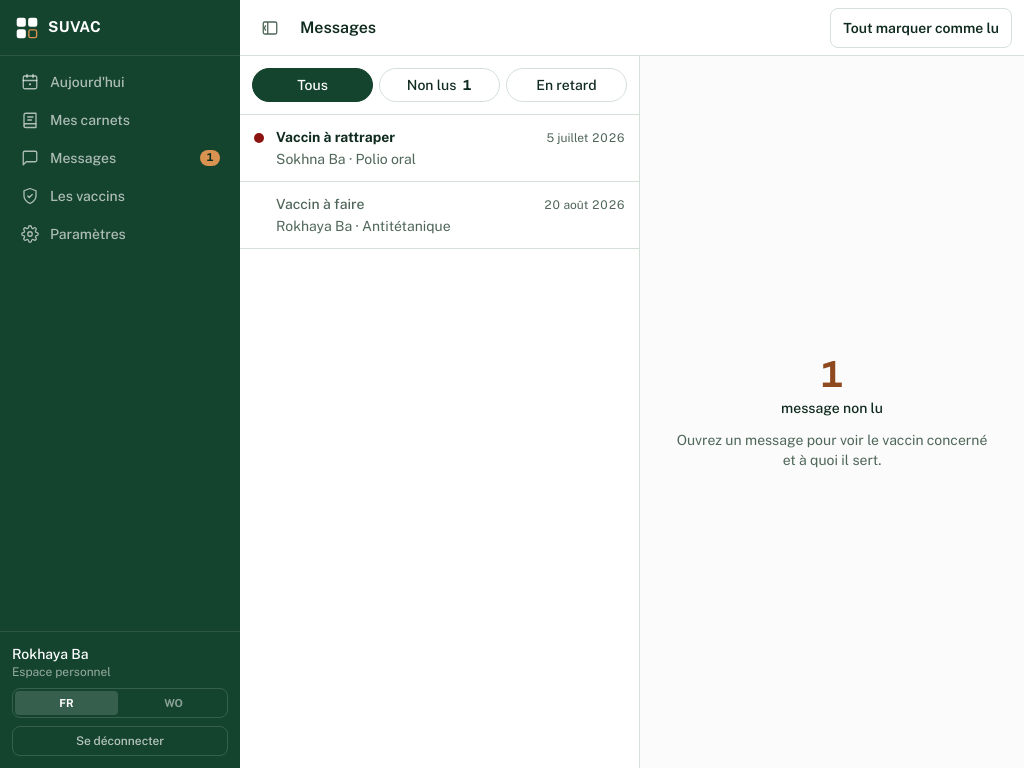
Messages › filtre les messages non lus
The image size is (1024, 768).
Click the tab "Non lus1". click: (440, 85)
box: [379,68,500,102]
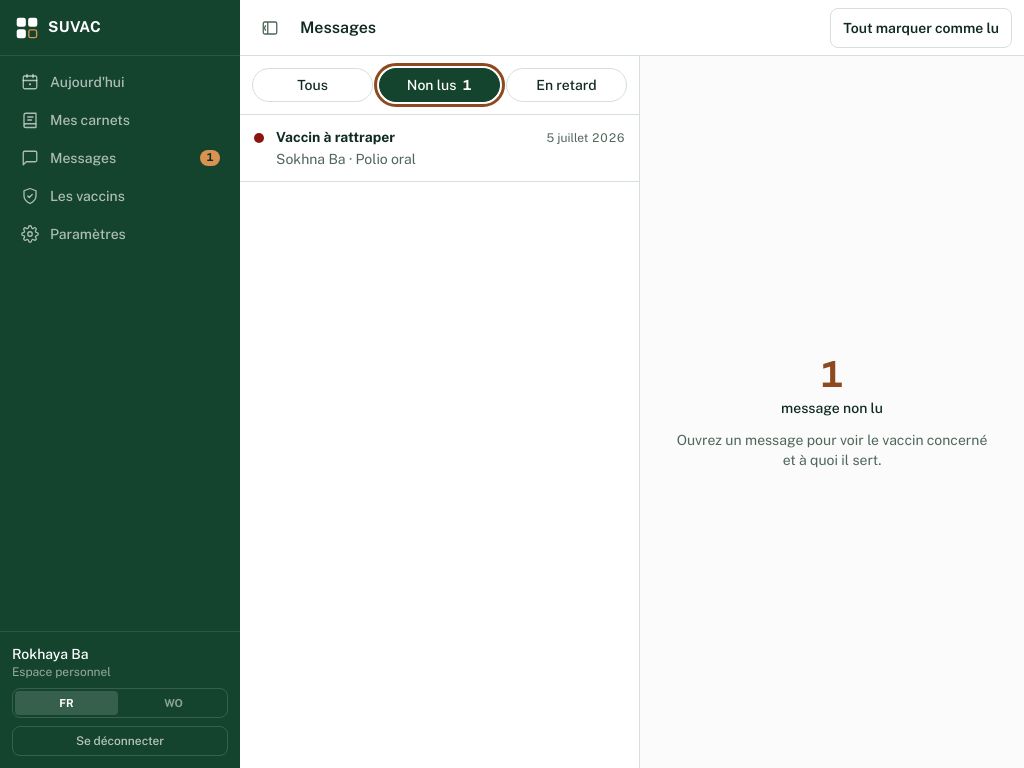
Expected: the text "Vaccin à rattraper" is shown, [276,127,395,147]
Expected: the button "Vaccin à faire" is gone
